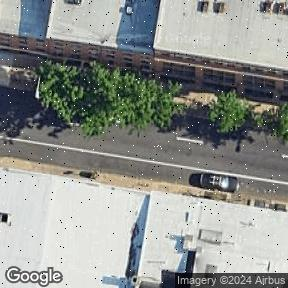vegetation: (35, 60, 185, 139), (200, 85, 255, 140)
